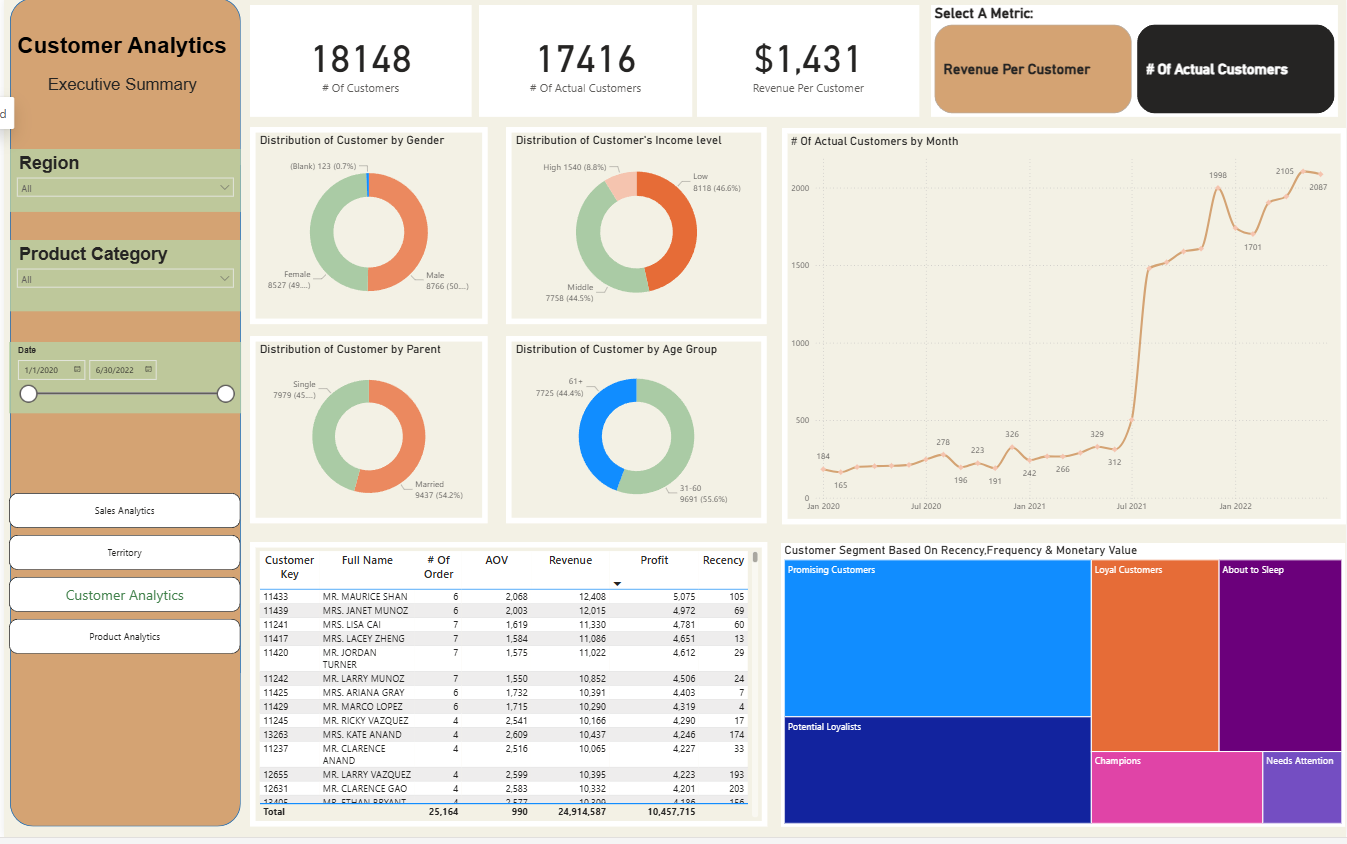

The page's visual inventory and layout, read from the dashboard file:
{"tool":"powerbi","page":{"name":"Customer Analytics","canvas":[1920,1200],"ordinal":2},"visuals":[{"type":"card","fields":{"Values":["_Measure.# Of Actual Customers"]},"box":[680,10,305,160],"z":0},{"type":"card","fields":{"Values":["_Measure.Revenue Per Customer"]},"box":[991.7,10,318.3,160],"z":1000},{"type":"shape","box":[8.3,0,330,1185],"z":2000},{"type":"textbox","box":[0,45,338.3,60],"z":3000},{"type":"textbox","box":[0,105,338.3,65],"z":4000},{"type":"card","fields":{"Values":["_Measure.# Of Customers"]},"box":[351.7,10,316.7,160],"z":5000},{"type":"slicer","fields":{"Values":["DimTerritory.Region"]},"box":[8.3,216.7,330,90],"z":6000},{"type":"slicer","fields":{"Values":["DimCategory.CategoryName"]},"box":[8.3,346.7,330,101.7],"z":7000},{"type":"slicer","fields":{"Values":["DimDate.Date"]},"box":[6.7,491.7,331.7,101.7],"z":8000},{"type":"pageNavigator","box":[6.7,708.3,331.7,233.3],"z":9000},{"type":"donutChart","title":"Distribution of Customer by Gender","fields":{"Category":["DimCustomer.Gender_Cleaned"],"Y":["_Measure.# Of Actual Customers"]},"box":[351.7,185,340,281.7],"z":10000},{"type":"donutChart","title":"Distribution of Customer''s Income level","fields":{"Y":["_Measure.# Of Actual Customers"],"Category":["DimCustomer.Income Level"]},"box":[718.3,185,373.3,281.7],"z":11000},{"type":"donutChart","title":"Distribution of Customer by Parent","fields":{"Y":["_Measure.# Of Actual Customers"],"Category":["DimCustomer.MaritalStatus"]},"box":[351.7,483.3,340,268.3],"z":12000},{"type":"donutChart","title":"Distribution of Customer by Age Group","fields":{"Y":["_Measure.# Of Actual Customers"],"Series":["DimCustomer.Age Group"]},"box":[718.3,483.3,373.3,268.3],"z":13000},{"type":"advancedSlicerVisual","title":"Select A Metric:","fields":{"Values":["Customer_Related_Parameters.Customer_Related_Parameters"]},"box":[1325.9,10.6,582,160.3],"z":14000},{"type":"lineChart","fields":{"Y":["_Measure.# Of Actual Customers"],"Category":["DimDate.Start of the Month"]},"box":[1112.2,185.4,807.3,566.9],"z":15000},{"type":"tableEx","fields":{"Values":["DimCustomer.CustomerKey","DimCustomer.Full Name","_Measure.# Of Order","_Measure.AOV","_Measure.Revenue","_Measure.Profit","_Measure.Recency"]},"box":[351.7,778.3,740,406.7],"z":16000},{"type":"treemap","title":"Customer Segment Based On Recency,Frequency & Monetary Value","fields":{"Group":["RFM Segment.Customer Segment"],"Values":["RFM Table.CustomerKey"]},"box":[1112,779,807,406],"z":17000}]}

Visuals, with their boxes in screenshot pixels (x1, y1, x2, y2), scaled from the page's 1920x1200 canvas onto the 1347x844 screenshot:
card - _Measure.# Of Actual Customers: locate(477, 7, 691, 120)
card - _Measure.Revenue Per Customer: locate(696, 7, 919, 120)
shape: locate(6, 0, 237, 833)
textbox: locate(0, 32, 237, 74)
textbox: locate(0, 74, 237, 120)
card - _Measure.# Of Customers: locate(247, 7, 469, 120)
slicer - DimTerritory.Region: locate(6, 152, 237, 216)
slicer - DimCategory.CategoryName: locate(6, 244, 237, 315)
slicer - DimDate.Date: locate(5, 346, 237, 417)
pageNavigator: locate(5, 498, 237, 662)
"Distribution of Customer by Gender" donutChart: locate(247, 130, 485, 328)
"Distribution of Customer''s Income level" donutChart: locate(504, 130, 766, 328)
"Distribution of Customer by Parent" donutChart: locate(247, 340, 485, 529)
"Distribution of Customer by Age Group" donutChart: locate(504, 340, 766, 529)
"Select A Metric:" advancedSlicerVisual: locate(930, 7, 1339, 120)
lineChart - _Measure.# Of Actual Customers x DimDate.Start of the Month: locate(780, 130, 1346, 529)
tableEx - DimCustomer.CustomerKey x DimCustomer.Full Name: locate(247, 547, 766, 833)
"Customer Segment Based On Recency,Frequency & Monetary Value" treemap: locate(780, 548, 1346, 833)
